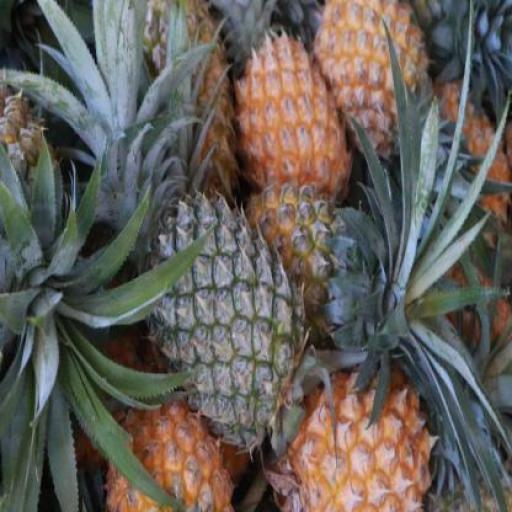Pineapple - v8 v1: (278, 370, 433, 511), (233, 29, 348, 210), (315, 0, 429, 167)
